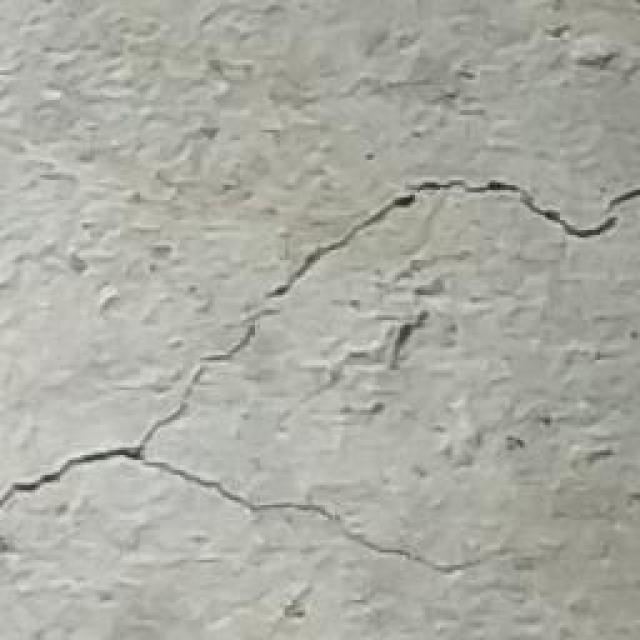Radial: (0, 142, 640, 584)
